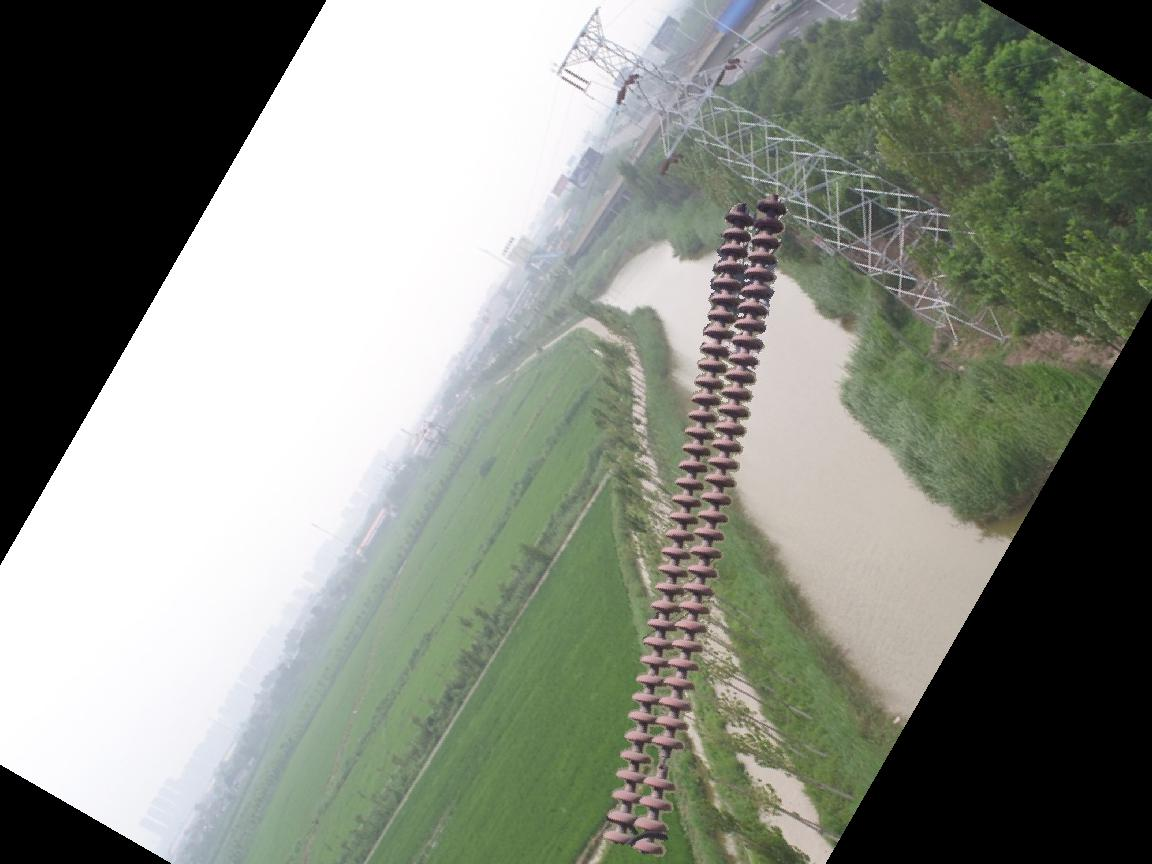insulator: (599, 190, 789, 861)
insulator_stringdrop: (640, 733, 688, 793)
